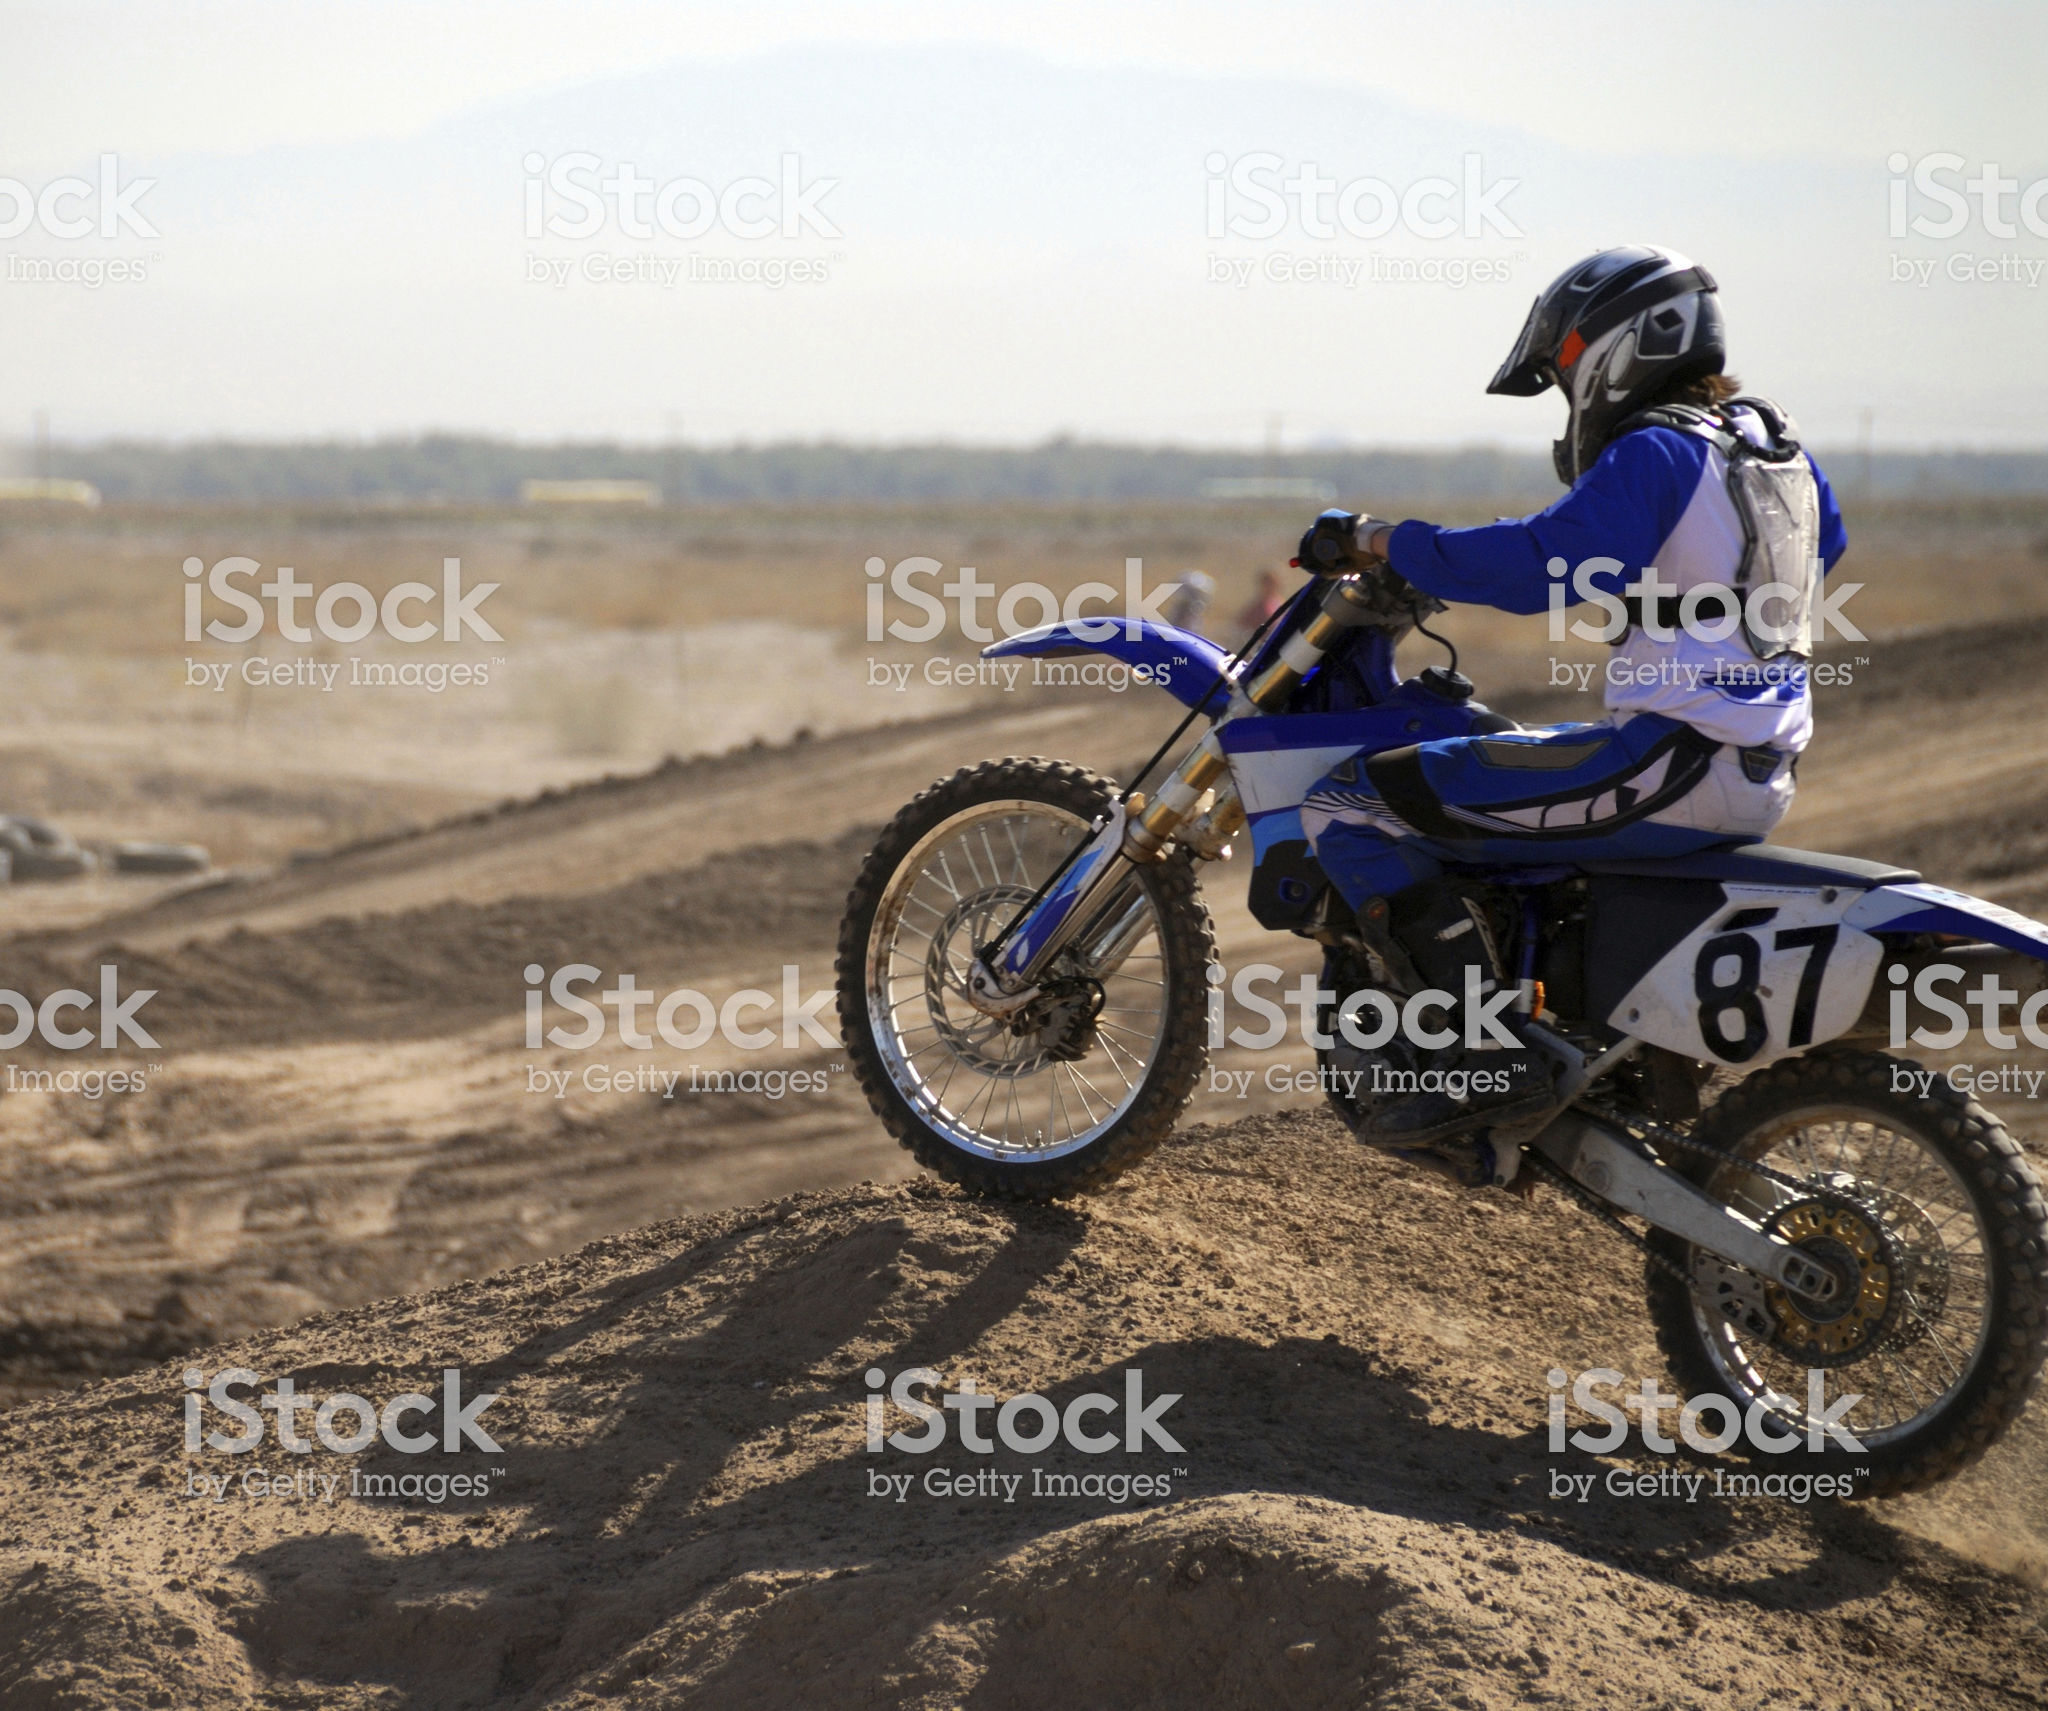helmet: (1509, 242, 1784, 488)
